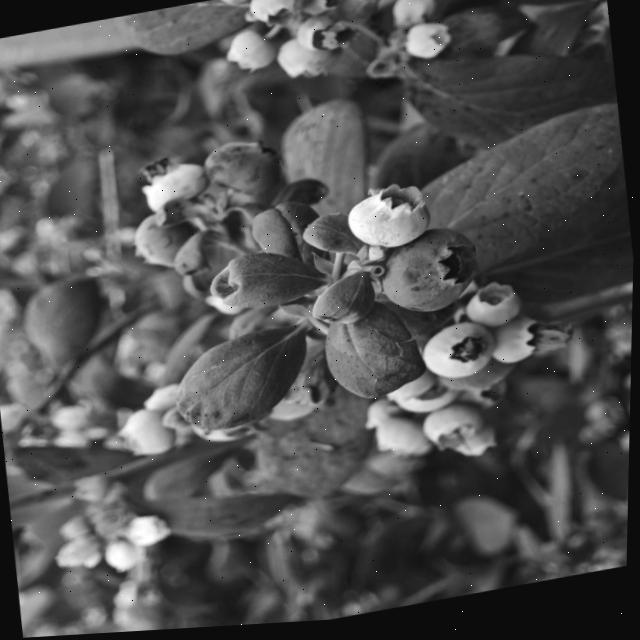RipeBlueBerry: (378, 225, 486, 324), (200, 133, 287, 204), (131, 207, 199, 273)
UnripeBlueBerry: (342, 182, 436, 259), (419, 320, 501, 389), (134, 155, 208, 214)
